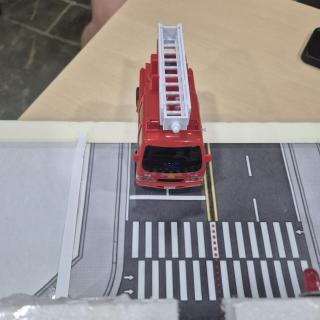Fire_truck: (133, 64, 211, 189)
